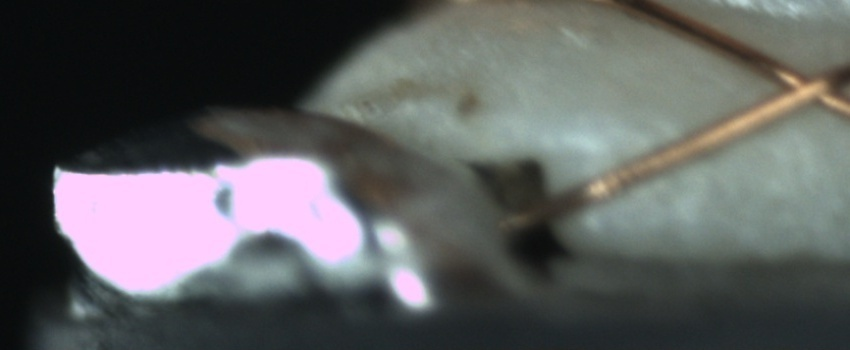CL: (747, 47, 848, 122)
